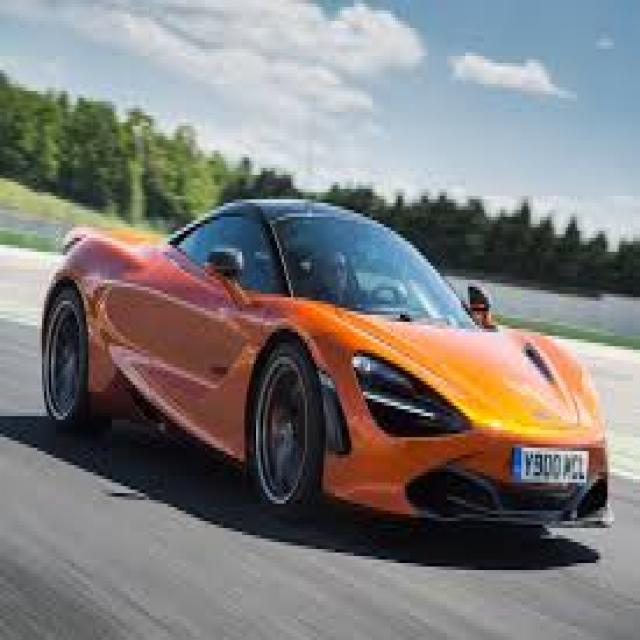Car: (30, 193, 618, 545)
